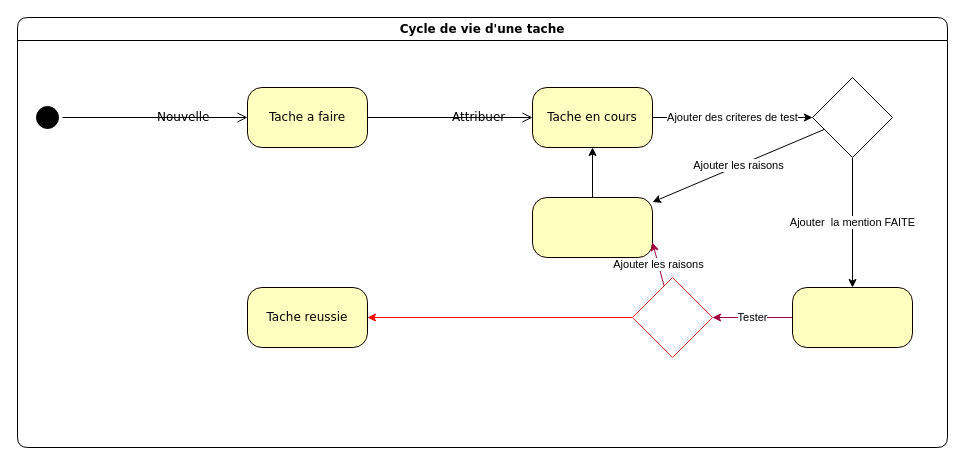
Image size: 965x465. Some labels were removed from this diagram. The centre of each missing label's shape, as x and y in pixels:
Tache a refaire: the point at 592,227
Tache faite: the point at 852,317
